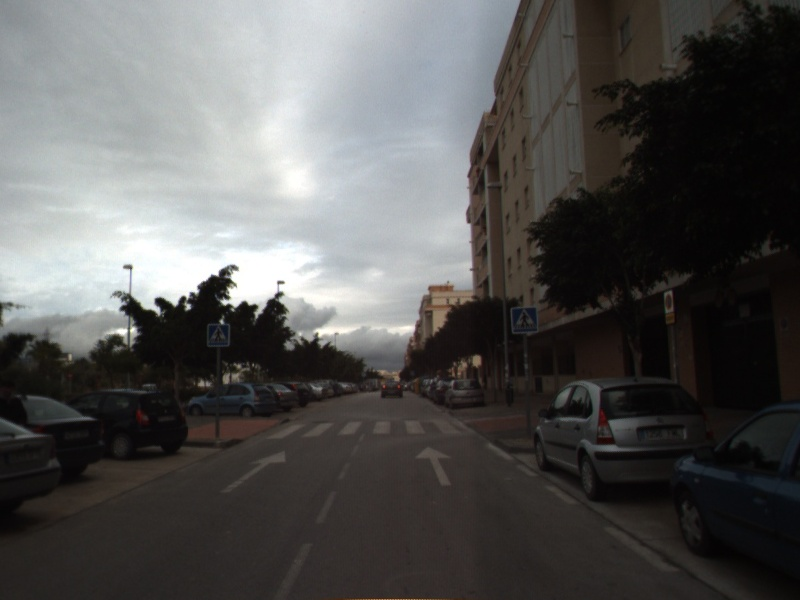STRAIGHT: (218, 448, 288, 494), (413, 444, 454, 488)
